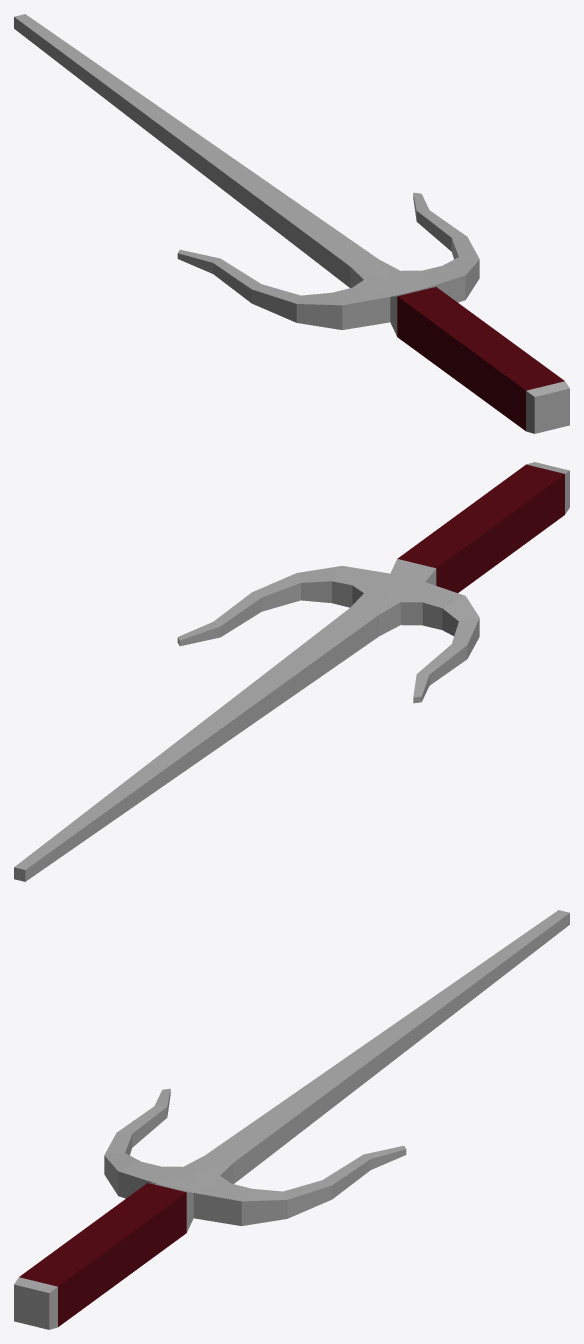
File: Sai - Textured Low Poly Asian Weapon Pack by Kickin It Studios.fbx
The picture shows the model from 3 angles, top to bottom: view 1: azimuth 30°, elevation 25°; view 2: azimuth 150°, elevation 25°; view 3: azimuth 330°, elevation 25°; orthographic projection.
Parts seen in each view (by area): view 1: Sai; view 2: Sai; view 3: Sai.
Part boxes in pixels (x1,y1,x2,y2): Sai: (14,14,569,433); Sai: (14,462,569,881); Sai: (14,910,569,1329).
Bounding box in the file's own units: 106 × 16.91 × 400.
